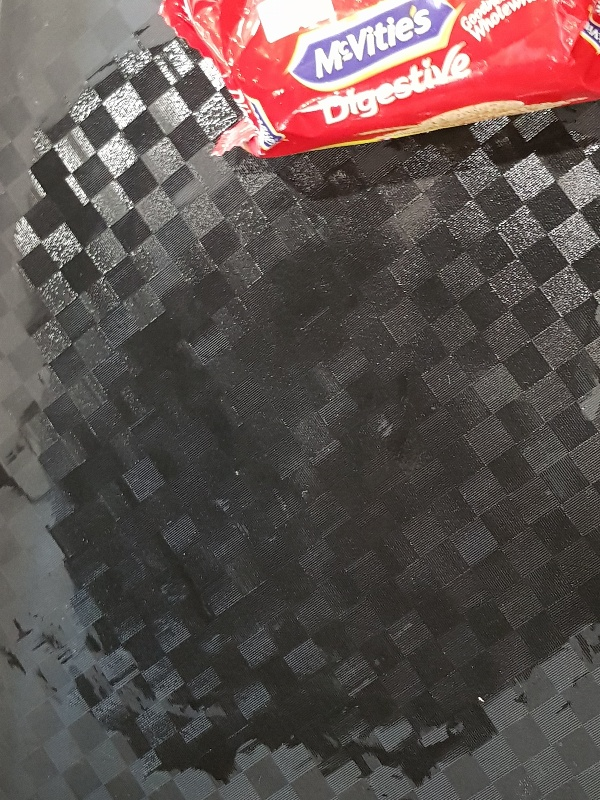Mcvitie's Digestive: (152, 1, 600, 161)
